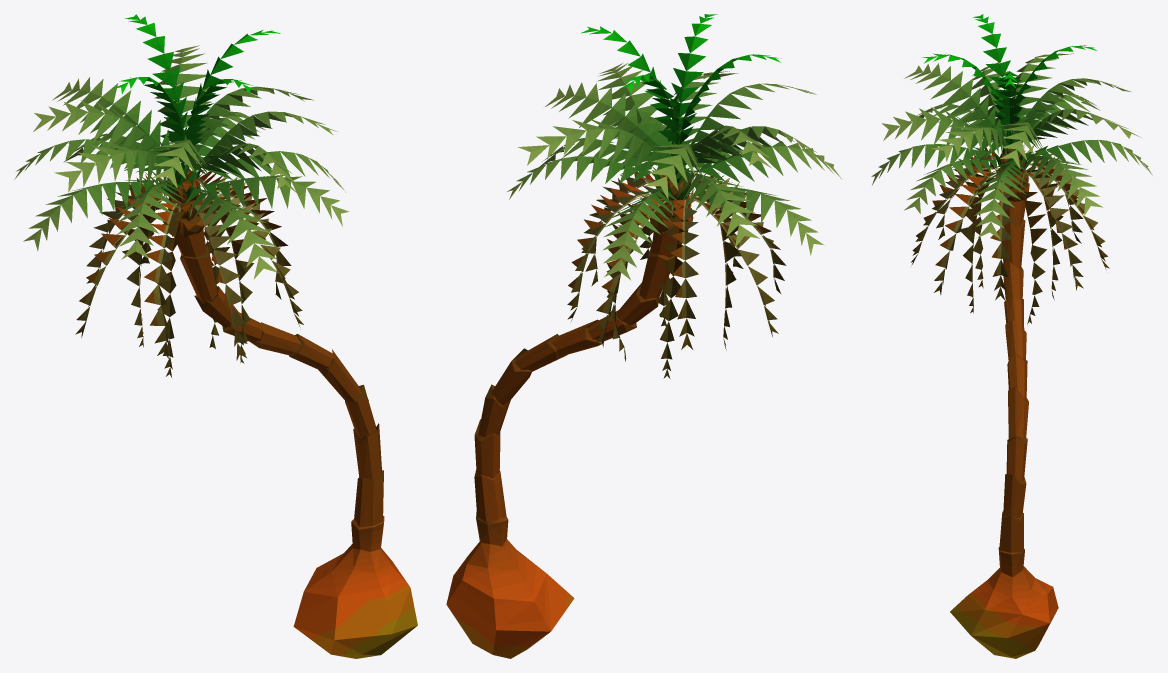
The model's file is palm-coconut.glb.
The picture shows the model from 3 angles, left to right: view 1: azimuth 30°, elevation 25°; view 2: azimuth 150°, elevation 25°; view 3: azimuth 270°, elevation 25°; orthographic projection. The views are drawn at different scales.
Parts seen in each view (by area): view 1: ExoticPalmCurveLeaves, ExoticPalmCurveGroundBase, ExoticPalmCurveBasicBark.003, ExoticPalmCurveFalenLeaves, ExoticPalmCurveYoungLeaves, ExoticPalmCurveDeathLeaves, ExoticPalmCurveExtraBark; view 2: ExoticPalmCurveLeaves, ExoticPalmCurveGroundBase, ExoticPalmCurveBasicBark.003, ExoticPalmCurveFalenLeaves, ExoticPalmCurveYoungLeaves, ExoticPalmCurveDeathLeaves, ExoticPalmCurveExtraBark; view 3: ExoticPalmCurveLeaves, ExoticPalmCurveGroundBase, ExoticPalmCurveBasicBark.003, ExoticPalmCurveFalenLeaves, ExoticPalmCurveDeathLeaves, ExoticPalmCurveYoungLeaves, ExoticPalmCurveExtraBark.
Boxes of the visible parts, bbox=[...] form: ExoticPalmCurveLeaves: bbox=[14, 45, 348, 279]; ExoticPalmCurveGroundBase: bbox=[293, 515, 417, 658]; ExoticPalmCurveBasicBark.003: bbox=[174, 216, 383, 527]; ExoticPalmCurveFalenLeaves: bbox=[75, 168, 303, 360]; ExoticPalmCurveYoungLeaves: bbox=[112, 14, 280, 170]; ExoticPalmCurveDeathLeaves: bbox=[122, 192, 254, 377]; ExoticPalmCurveExtraBark: bbox=[162, 169, 204, 237]; ExoticPalmCurveLeaves: bbox=[507, 63, 842, 279]; ExoticPalmCurveGroundBase: bbox=[446, 512, 574, 658]; ExoticPalmCurveBasicBark.003: bbox=[474, 229, 688, 522]; ExoticPalmCurveFalenLeaves: bbox=[567, 166, 786, 349]; ExoticPalmCurveYoungLeaves: bbox=[581, 14, 781, 164]; ExoticPalmCurveDeathLeaves: bbox=[606, 186, 739, 378]; ExoticPalmCurveExtraBark: bbox=[650, 169, 693, 234]; ExoticPalmCurveLeaves: bbox=[871, 53, 1152, 239]; ExoticPalmCurveGroundBase: bbox=[950, 547, 1058, 658]; ExoticPalmCurveBasicBark.003: bbox=[999, 188, 1028, 552]; ExoticPalmCurveFalenLeaves: bbox=[911, 144, 1109, 300]; ExoticPalmCurveDeathLeaves: bbox=[960, 162, 1063, 324]; ExoticPalmCurveYoungLeaves: bbox=[922, 14, 1096, 144]; ExoticPalmCurveExtraBark: bbox=[995, 148, 1029, 201].
Size of the model in its own units: 6.21 by 10.48 by 4.96.
1 material, 1 textured.
